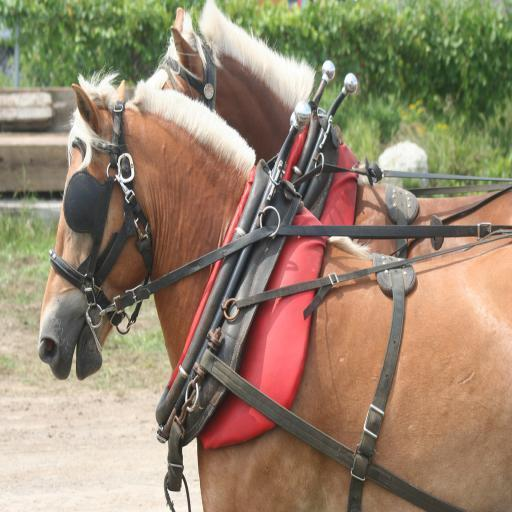horse: (37, 58, 512, 511), (142, 0, 512, 266)
